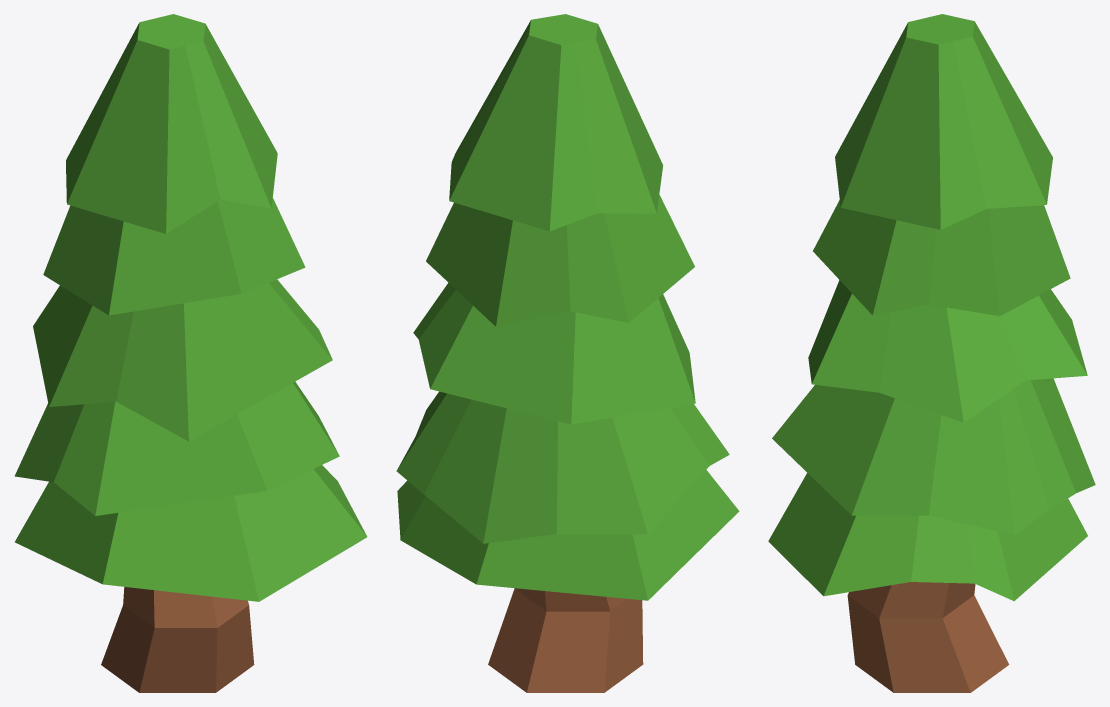
The model's file is ArbolVerano2.fbx.
3 views of the same model, side by side, from view 1: azimuth 30°, elevation 25°; view 2: azimuth 150°, elevation 25°; view 3: azimuth 270°, elevation 25° (orthographic).
Visible parts, largest first — view 1: Cylinder.005, Cylinder.003, Cylinder.001, Cylinder.002, Cylinder.004, Cylinder; view 2: Cylinder.002, Cylinder.005, Cylinder.003, Cylinder.004, Cylinder.001, Cylinder; view 3: Cylinder.002, Cylinder.005, Cylinder.003, Cylinder.001, Cylinder.004, Cylinder.
Part boxes in pixels (left/top/right/bottom): Cylinder.005: left=66, top=14, right=277, bottom=233; Cylinder.003: left=33, top=279, right=332, bottom=441; Cylinder.001: left=15, top=465, right=367, bottom=601; Cylinder.002: left=15, top=381, right=339, bottom=515; Cylinder.004: left=43, top=198, right=305, bottom=315; Cylinder: left=101, top=587, right=254, bottom=692; Cylinder.002: left=396, top=391, right=729, bottom=543; Cylinder.005: left=449, top=14, right=663, bottom=231; Cylinder.003: left=413, top=283, right=695, bottom=424; Cylinder.004: left=426, top=194, right=694, bottom=326; Cylinder.001: left=397, top=470, right=739, bottom=600; Cylinder: left=488, top=588, right=643, bottom=692; Cylinder.002: left=772, top=378, right=1095, bottom=534; Cylinder.005: left=835, top=14, right=1052, bottom=229; Cylinder.003: left=808, top=280, right=1087, bottom=422; Cylinder.001: left=768, top=473, right=1087, bottom=601; Cylinder.004: left=813, top=200, right=1070, bottom=316; Cylinder: left=847, top=582, right=1009, bottom=692.
Size of the model in its own units: 426 by 910 by 425.
